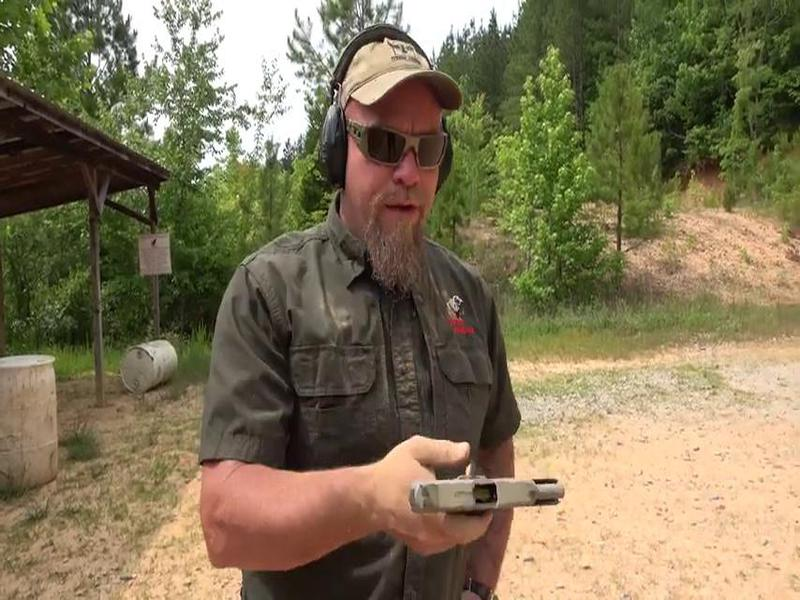Pistola: (381, 430, 566, 549)
